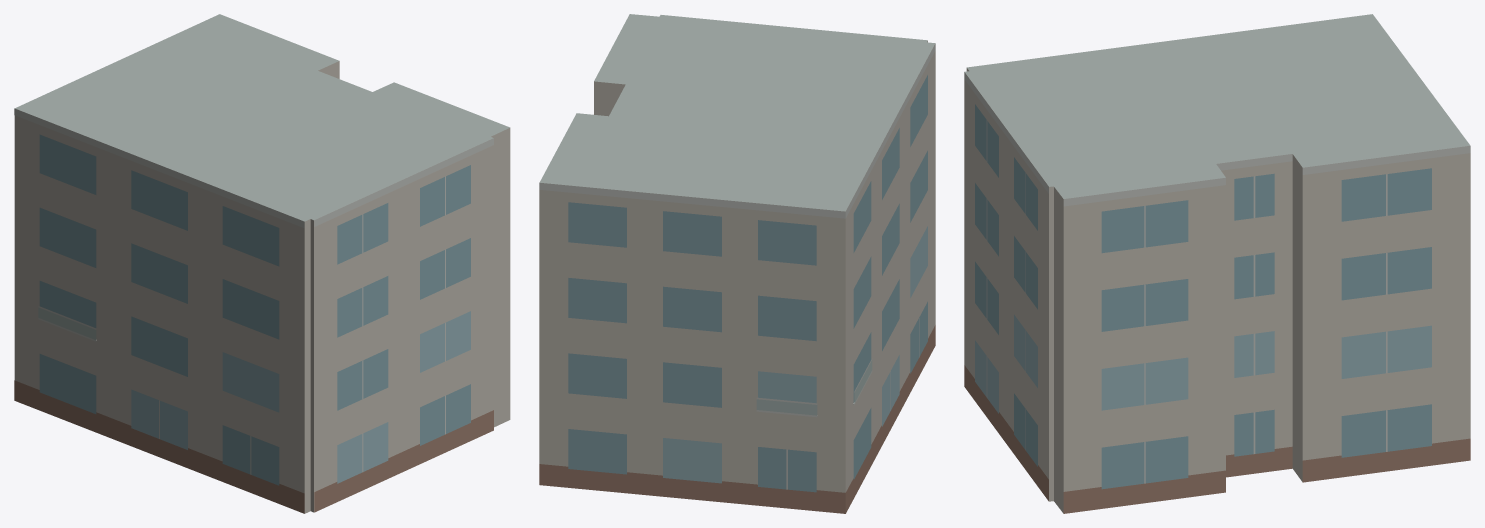
The model's file is survey-upis-33004208.glb.
3 views of the same model, side by side, from view 1: azimuth 30°, elevation 25°; view 2: azimuth 150°, elevation 25°; view 3: azimuth 270°, elevation 25° (orthographic). The views are drawn at different scales.
Parts seen in each view (by area): view 1: survey-upis-33004208.tmp; view 2: survey-upis-33004208.tmp; view 3: survey-upis-33004208.tmp.
Boxes of the visible parts, x1,y1,x2,y2 form: survey-upis-33004208.tmp: (14, 14, 510, 513); survey-upis-33004208.tmp: (539, 14, 935, 513); survey-upis-33004208.tmp: (964, 14, 1470, 513).
Size of the model in its own units: 13.13 by 10.4 by 15.17.
